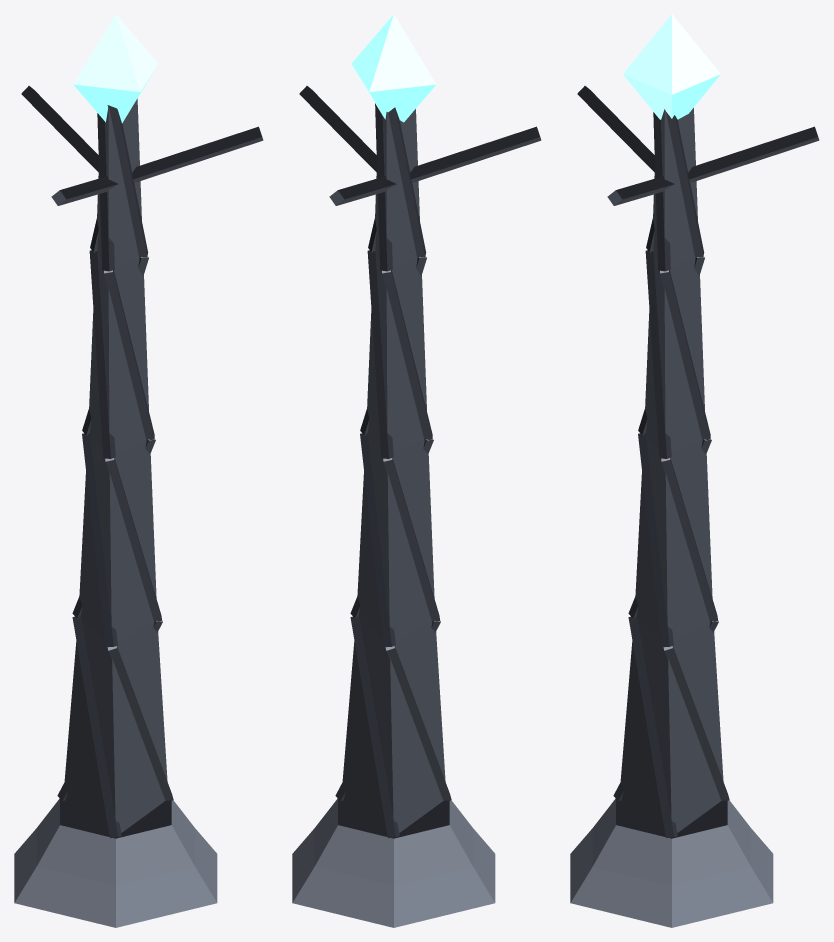
Rendered from pylon.glb.
3 renders of one model, left to right at view 1: azimuth 30°, elevation 25°; view 2: azimuth 150°, elevation 25°; view 3: azimuth 270°, elevation 25°, orthographic.
Visible parts, largest first — view 1: Pylon Mast, Pylon Footing, Pylon Emitter; view 2: Pylon Mast, Pylon Footing, Pylon Emitter; view 3: Pylon Mast, Pylon Footing, Pylon Emitter.
Part boxes in pixels (bbox=[...]): Pylon Mast: bbox=[21, 86, 263, 838]; Pylon Footing: bbox=[14, 798, 217, 927]; Pylon Emitter: bbox=[73, 14, 158, 123]; Pylon Mast: bbox=[299, 86, 541, 838]; Pylon Footing: bbox=[292, 798, 495, 927]; Pylon Emitter: bbox=[351, 14, 436, 122]; Pylon Mast: bbox=[577, 86, 819, 838]; Pylon Footing: bbox=[570, 798, 773, 927]; Pylon Emitter: bbox=[623, 14, 720, 119].
Size of the model in its own units: 2.11 by 7.74 by 2.02.
